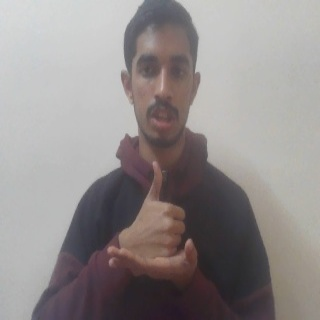Face: (120, 1, 203, 147)
Help: (107, 158, 201, 284)
